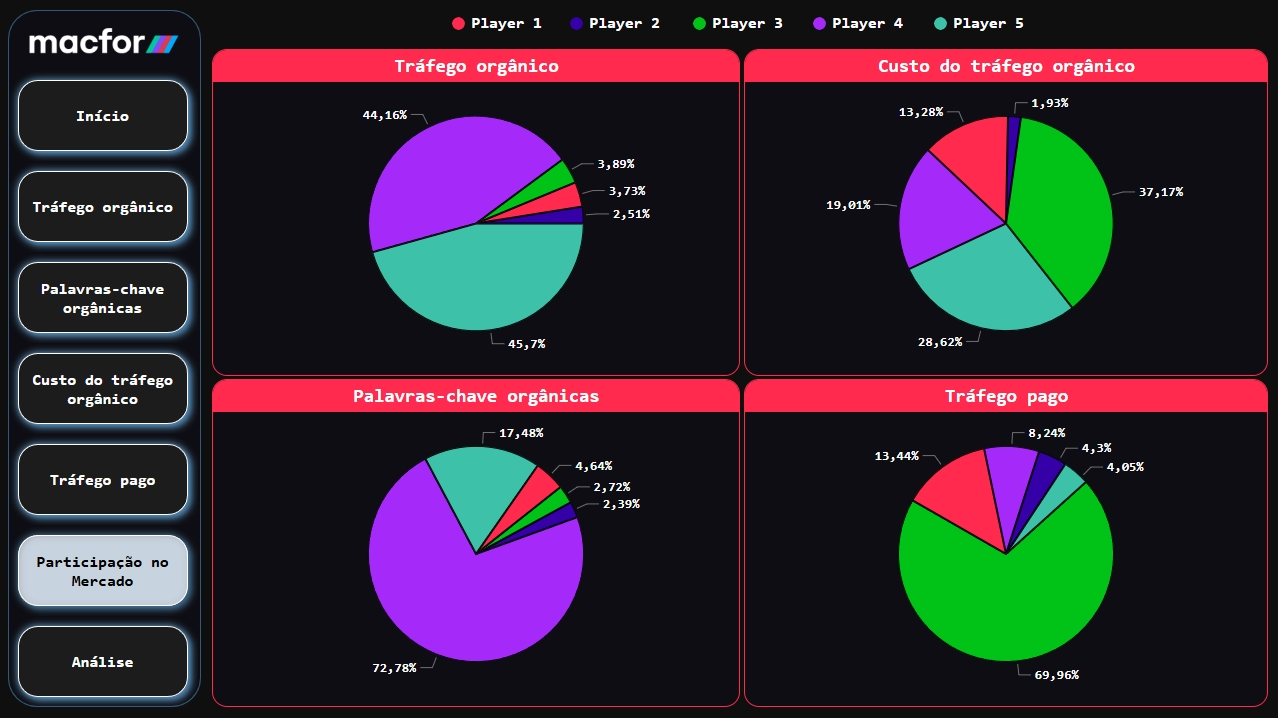

The dashboard page shown, as its layout file describes it:
{"tool":"powerbi","page":{"name":"Participação no Mercado","canvas":[1280,720],"ordinal":5},"visuals":[{"type":"group","id":"g1","title":"Grupo 1","box":[453,9,102.3,29.6],"z":0,"group":"g6"},{"type":"shape","box":[9,11,193,697],"z":0},{"type":"group","id":"g2","title":"Grupo 1","box":[570.7,9,102.3,29.6],"z":1000,"group":"g6"},{"type":"pageNavigator","box":[9,71,190,637],"z":1000},{"type":"group","id":"g3","title":"Grupo 1","box":[693.7,9,102.3,29.6],"z":2000,"group":"g6"},{"type":"image","box":[12,19,187,53],"z":2000},{"type":"group","id":"g4","title":"Grupo 1","box":[814,9,102.3,29.6],"z":3000,"group":"g6"},{"type":"pieChart","title":"Tráfego orgânico","fields":{"Category":["Organic traffic (Organic traffic).Player"],"Y":["Sum(Organic traffic (Organic traffic).Valor)"]},"box":[213,50,528,327],"z":3000},{"type":"group","id":"g5","title":"Grupo 1","box":[935.2,9,102.3,29.6],"z":4000,"group":"g6"},{"type":"pieChart","title":"Custo do tráfego orgânico","fields":{"Category":["Organic cost (Organic cost).Player"],"Y":["Sum(Organic cost (Organic cost).Valor)"]},"box":[745,50,524,327],"z":4000},{"type":"pieChart","title":"Palavras-chave orgânicas","fields":{"Category":["Organic keywords (Organic keywords).Player"],"Y":["Sum(Organic keywords (Organic keywords).Valor)"]},"box":[213,380,528,328],"z":5000},{"type":"pieChart","title":"Tráfego pago","fields":{"Category":["Adwords traffic (Adwords traffic).Player"],"Y":["Sum(Adwords traffic (Adwords traffic).Valor)"]},"box":[745,380,524,328],"z":6000},{"type":"shape","box":[453,18,12.6,12.6],"z":7000,"group":"g1"},{"type":"shape","box":[570.7,18,12.6,12.6],"z":7000,"group":"g2"},{"type":"shape","box":[693.7,18,12.6,12.6],"z":7000,"group":"g3"},{"type":"shape","box":[814,18,12.6,12.6],"z":7000,"group":"g4"},{"type":"shape","box":[935.2,18,12.6,12.6],"z":7000,"group":"g5"},{"type":"textbox","box":[468.3,9,87.1,29.6],"z":8000,"group":"g1"},{"type":"textbox","box":[586,9,87.1,29.6],"z":8000,"group":"g2"},{"type":"textbox","box":[709,9,87.1,29.6],"z":8000,"group":"g3"},{"type":"textbox","box":[829.3,9,87.1,29.6],"z":8000,"group":"g4"},{"type":"textbox","box":[950.5,9,87.1,29.6],"z":8000,"group":"g5"},{"type":"group","id":"g6","title":"Grupo 2","box":[453,9,584.4,29.6],"z":8006}]}

Visuals, with their boxes in screenshot pixels (x1, y1, x2, y2), scaled from the page's 1280x720 canvas onto the 1278x718 screenshot:
"Grupo 1" group: l=452, t=9, r=554, b=38
shape: l=9, t=11, r=202, b=706
"Grupo 1" group: l=570, t=9, r=672, b=38
pageNavigator: l=9, t=71, r=199, b=706
"Grupo 1" group: l=693, t=9, r=795, b=38
image: l=12, t=19, r=199, b=72
"Grupo 1" group: l=813, t=9, r=915, b=38
"Tráfego orgânico" pieChart: l=213, t=50, r=740, b=376
"Grupo 1" group: l=934, t=9, r=1036, b=38
"Custo do tráfego orgânico" pieChart: l=744, t=50, r=1267, b=376
"Palavras-chave orgânicas" pieChart: l=213, t=379, r=740, b=706
"Tráfego pago" pieChart: l=744, t=379, r=1267, b=706
shape: l=452, t=18, r=465, b=31
shape: l=570, t=18, r=582, b=31
shape: l=693, t=18, r=705, b=31
shape: l=813, t=18, r=825, b=31
shape: l=934, t=18, r=946, b=31
textbox: l=468, t=9, r=555, b=38
textbox: l=585, t=9, r=672, b=38
textbox: l=708, t=9, r=795, b=38
textbox: l=828, t=9, r=915, b=38
textbox: l=949, t=9, r=1036, b=38
"Grupo 2" group: l=452, t=9, r=1036, b=38
